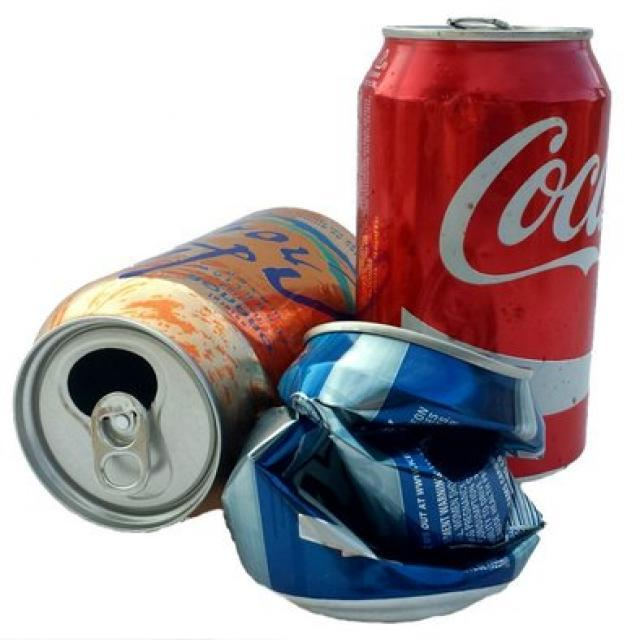can: (0, 97, 378, 563), (216, 312, 582, 626), (348, 18, 596, 480)
